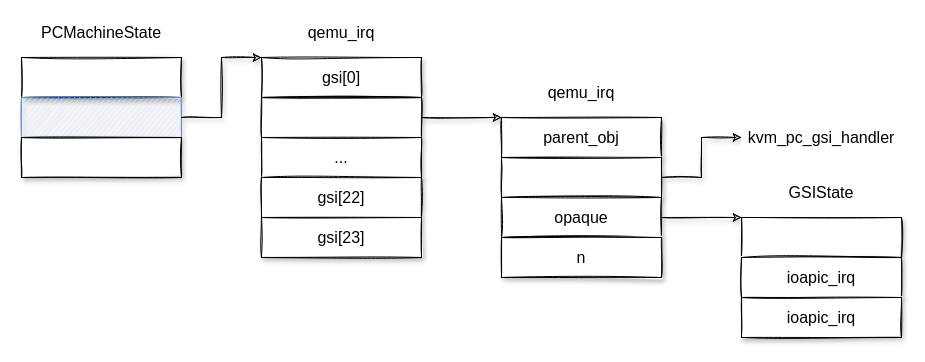
The diagram is 925 pixels wide and 362 high, and some of its shapes have lost their labels. Each missing label, with the centre of its shape:
"gsi" goes at point (102, 118).
"gsi[1]" goes at point (342, 118).
"handler" goes at point (582, 178).
"i8259_irq" goes at point (822, 238).
